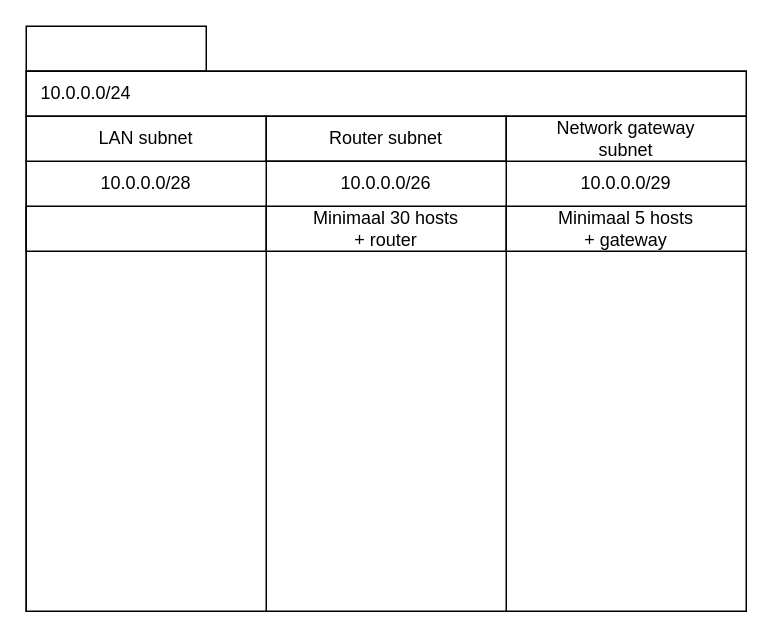
The diagram is 773 pixels wide and 638 high, and some of its shapes have lost their labels. The box of each missing label's shape, as (x1, y1, x2, y2) in pixels:
Minimaal 15 hosts: (25, 205, 266, 251)
Network Architecture: (25, 25, 206, 71)
